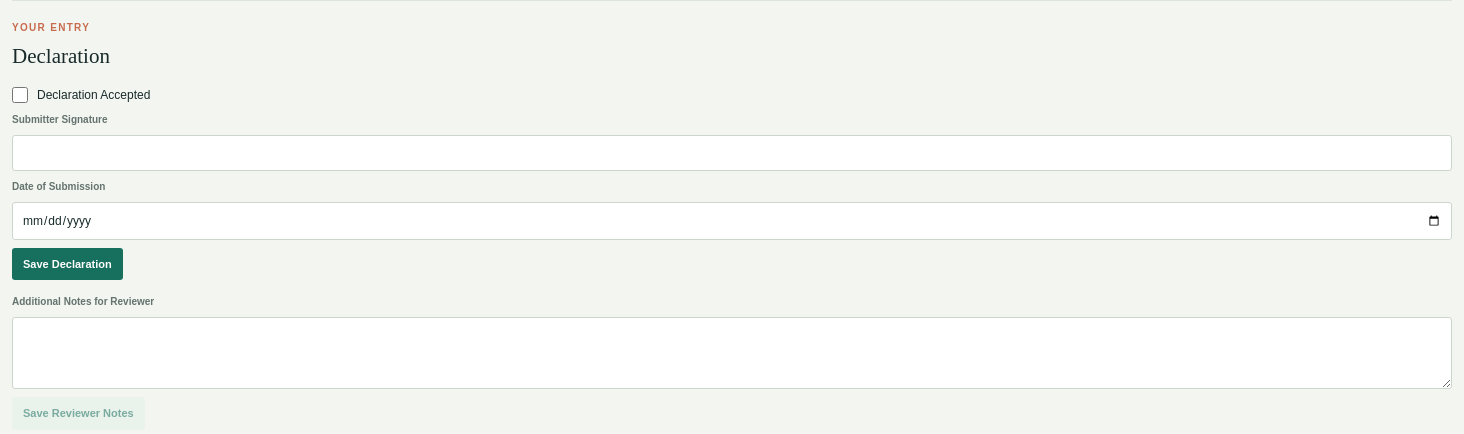
human declarations › keeps saves busy after one sibling fails and suppresses callbacks after unmount
Click the checkbox: [20, 94] box x1=12 y1=86 x2=28 y2=102
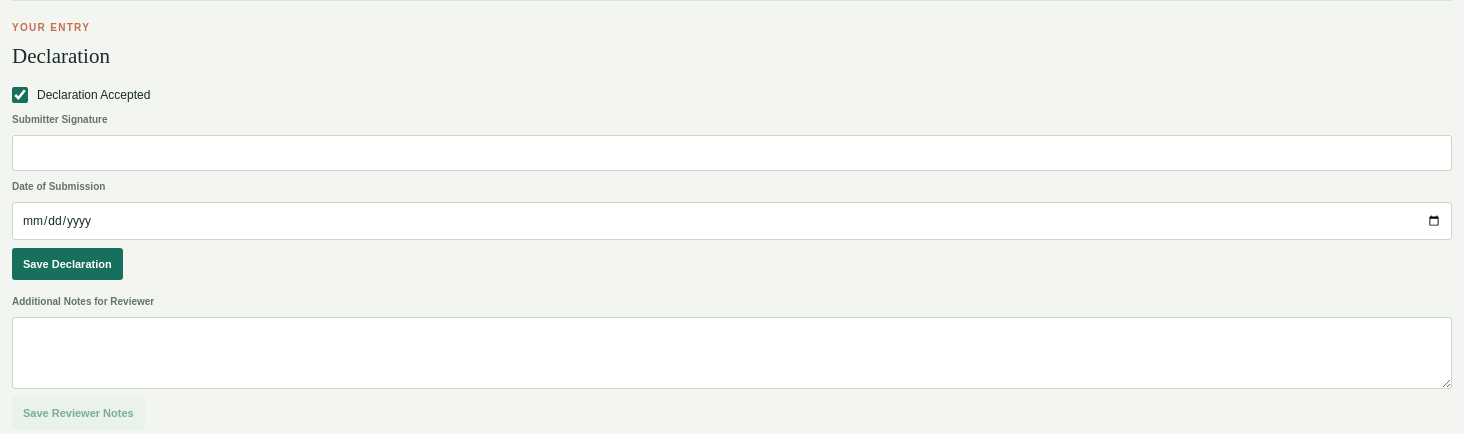
In the field labelled "Submitter Signature": [732, 153] box x1=12 y1=135 x2=1452 y2=171, type "Example"
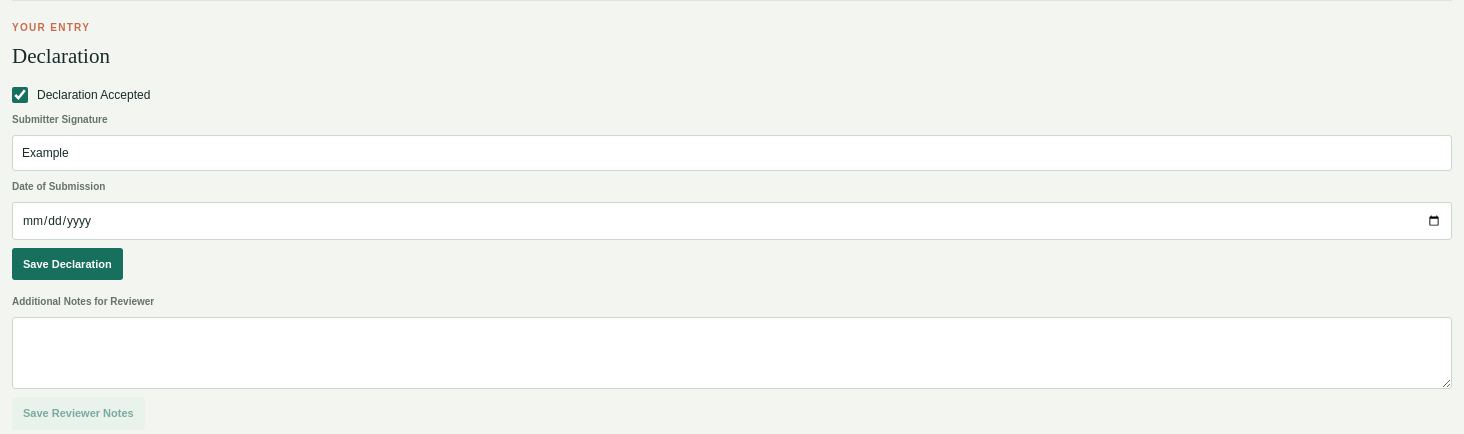
In the date field labelled "Date of Submission": [732, 221] box x1=12 y1=202 x2=1452 y2=240, type "2026-11-11"
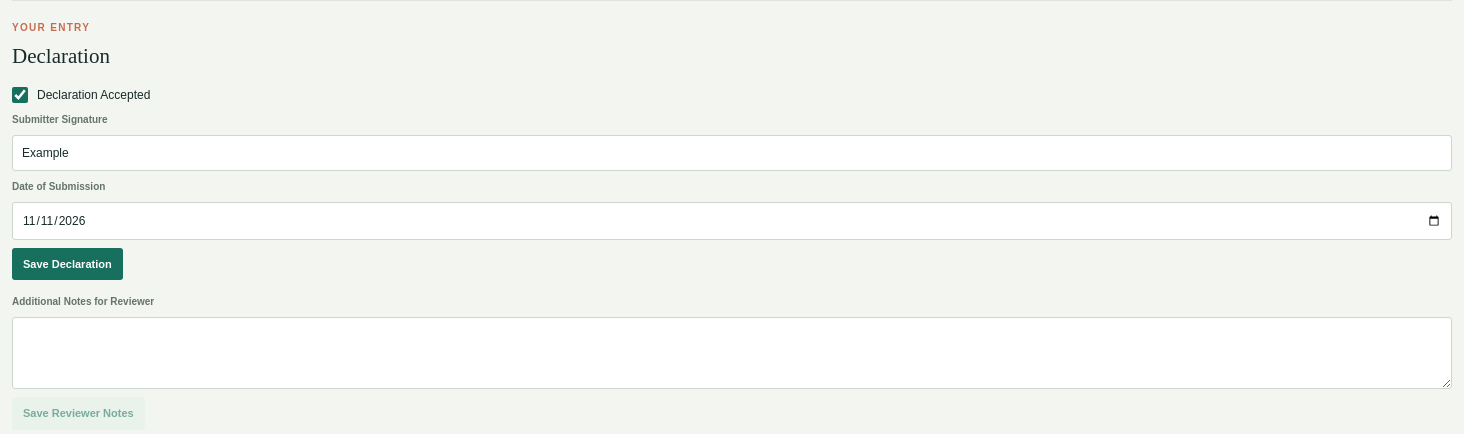
Submit the form "Save Declaration", box x1=12 y1=86 x2=1452 y2=280
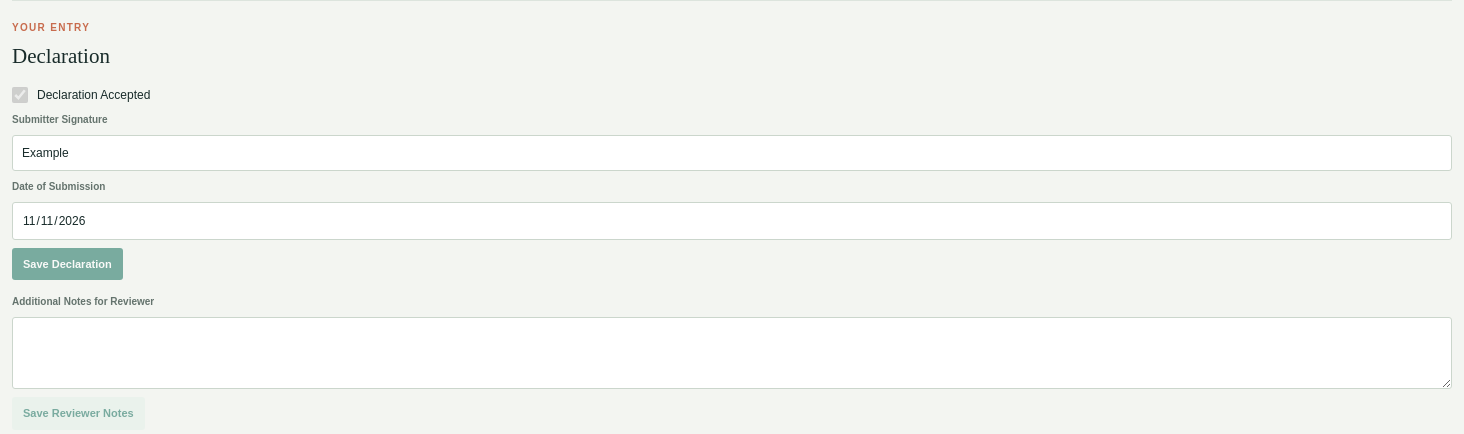
Expected: the button "Save Declaration" is disabled, x1=12 y1=248 x2=123 y2=280
